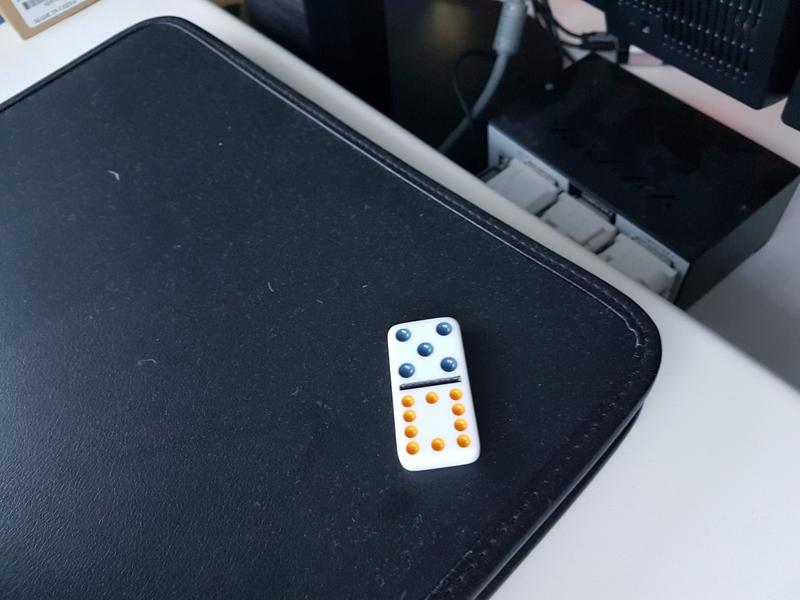Domino: (383, 313, 483, 473)
